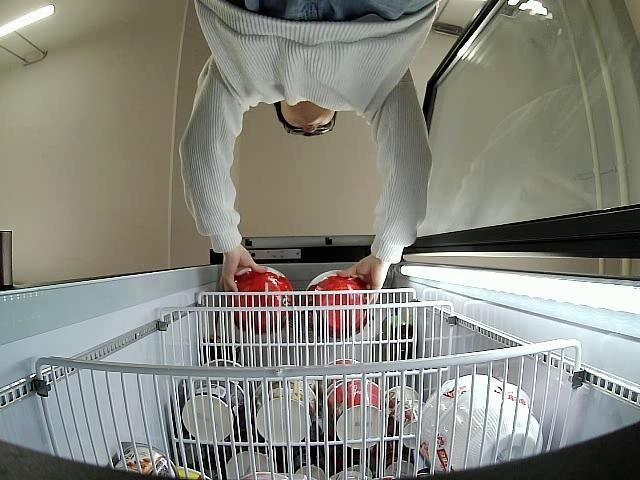10_wangTtukkeong: (306, 270, 374, 338), (228, 266, 295, 332)
